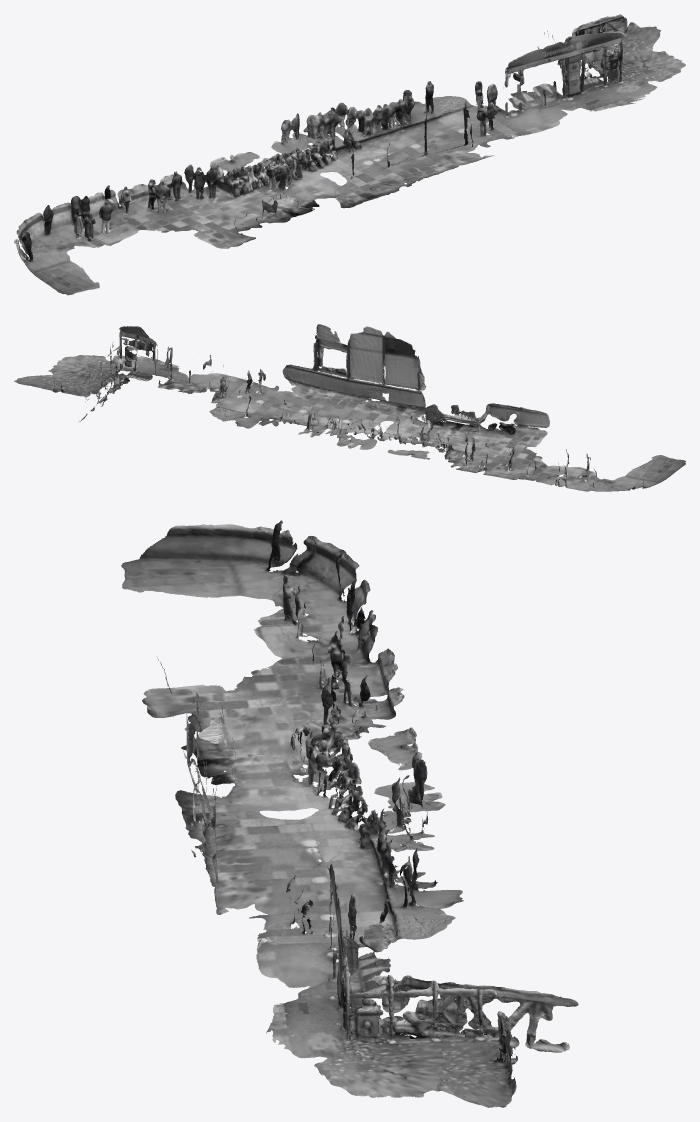
3 renders of one model, top to bottom at view 1: azimuth 30°, elevation 25°; view 2: azimuth 150°, elevation 25°; view 3: azimuth 270°, elevation 25°, orthographic. The views are drawn at different scales.
Parts seen in each view (by area): view 1: mesh; view 2: mesh; view 3: mesh.
Part boxes in pixels (bbox=[...]): mesh: bbox=[14, 14, 685, 295]; mesh: bbox=[14, 324, 685, 491]; mesh: bbox=[121, 520, 578, 1107].
Bounding box in the file's own units: 43.48 × 5.53 × 14.64.
1 material, 1 textured.
